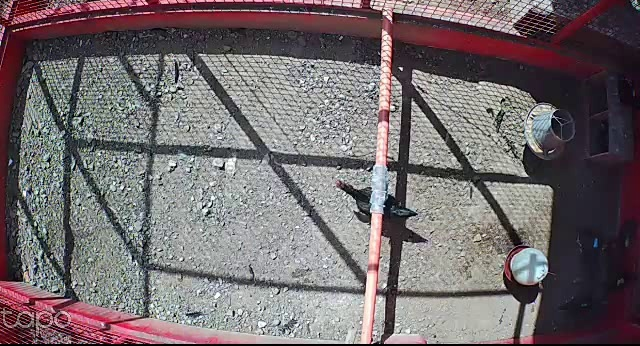Chicken: (330, 167, 420, 225), (560, 289, 612, 319), (575, 225, 602, 279)
Drinker: (503, 245, 550, 289)
Feeder: (523, 102, 577, 161)
Saddle_Color_Blue: (593, 237, 599, 246)
